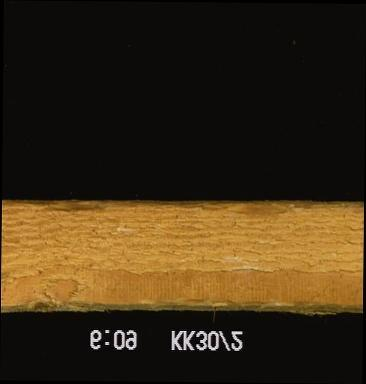edge_knot: (24, 298, 58, 311)
wave: (38, 199, 314, 211)
